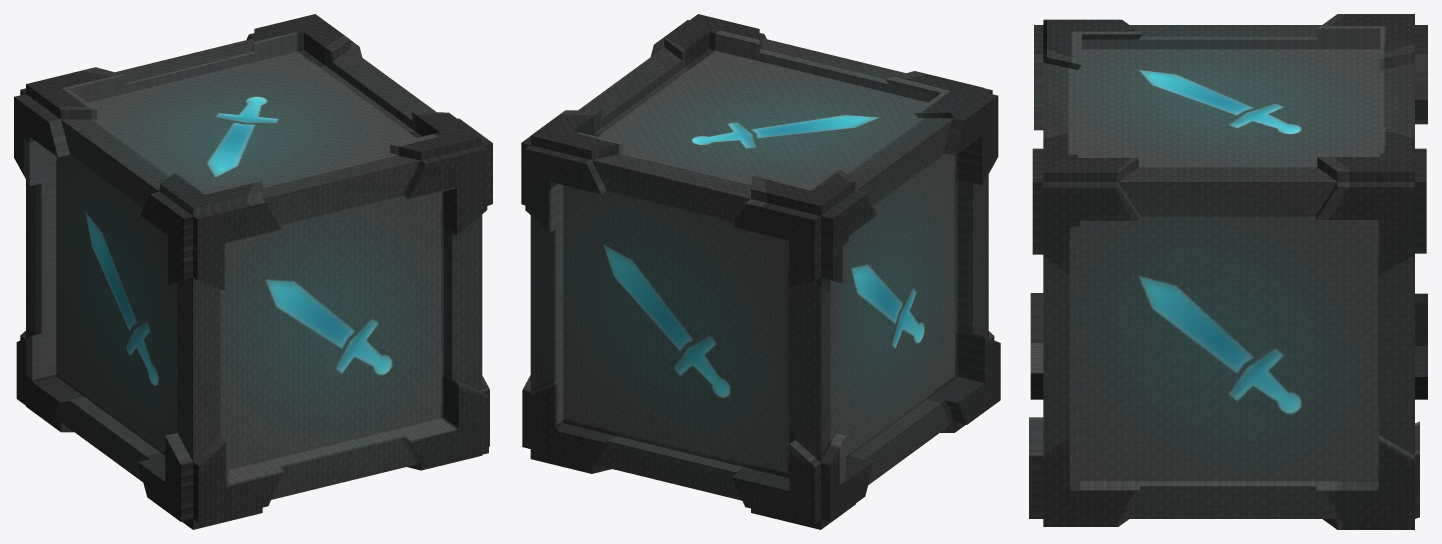
Rendered from consumivel.obj.
The picture shows the model from 3 angles, left to right: view 1: azimuth 30°, elevation 25°; view 2: azimuth 150°, elevation 25°; view 3: azimuth 270°, elevation 25°; orthographic projection. The views are drawn at different scales.
Visible parts, largest first — view 1: Cube; view 2: Cube; view 3: Cube.
Part boxes in pixels (x1,y1,x2,y2): Cube: (14, 14, 492, 529); Cube: (521, 14, 1000, 529); Cube: (1029, 14, 1427, 529).
Bounding box in the file's own units: 4.65 × 4.6 × 4.62.
